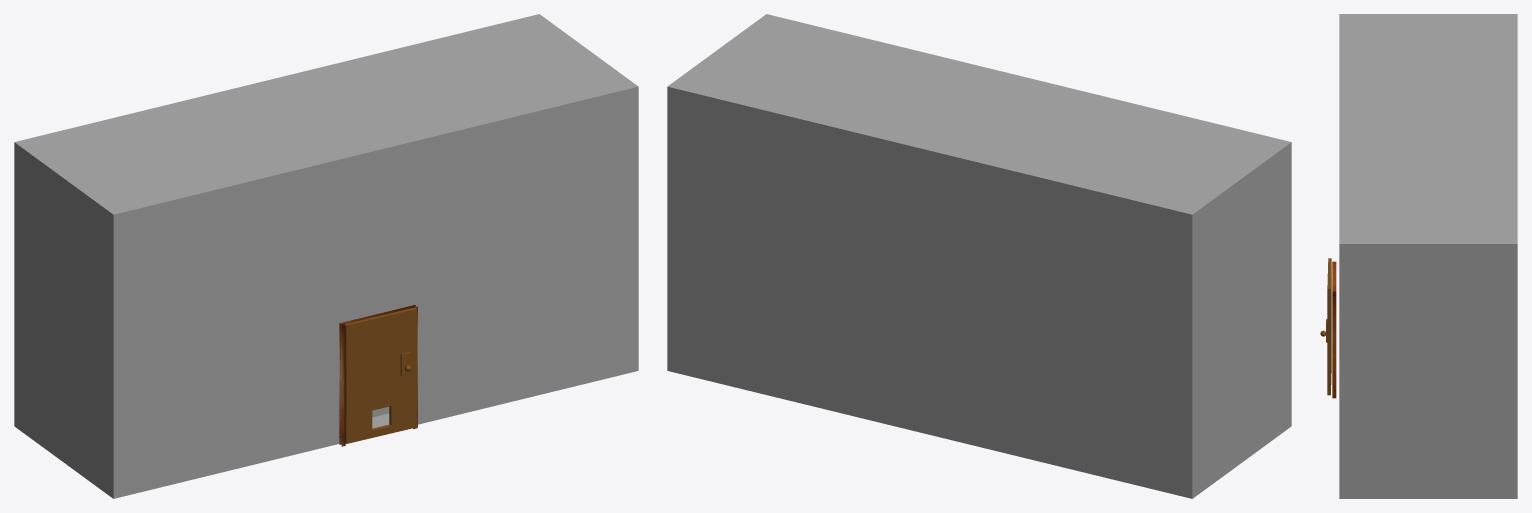
Rendered from New Scene 7 Portal.fbx.
3 views of the same model, side by side, from view 1: azimuth 30°, elevation 25°; view 2: azimuth 150°, elevation 25°; view 3: azimuth 270°, elevation 25° (orthographic). The views are drawn at different scales.
Parts seen in each view (by area): view 1: pPlane2, Door1, InteriorDoorProfile; view 2: pPlane2; view 3: pPlane2, Door1, InteriorDoorProfile.
Part boxes in pixels (x1=…): pPlane2: x1=14, y1=14, x2=638, y2=498; Door1: x1=344, y1=307, x2=417, y2=443; InteriorDoorProfile: x1=339, y1=305, x2=417, y2=446; pPlane2: x1=667, y1=14, x2=1291, y2=498; pPlane2: x1=1339, y1=14, x2=1517, y2=498; Door1: x1=1320, y1=258, x2=1331, y2=395; InteriorDoorProfile: x1=1332, y1=261, x2=1336, y2=398.
Size of the model in its own units: 1064 by 550 by 385.
Materials: 3 (1 with a texture image).
